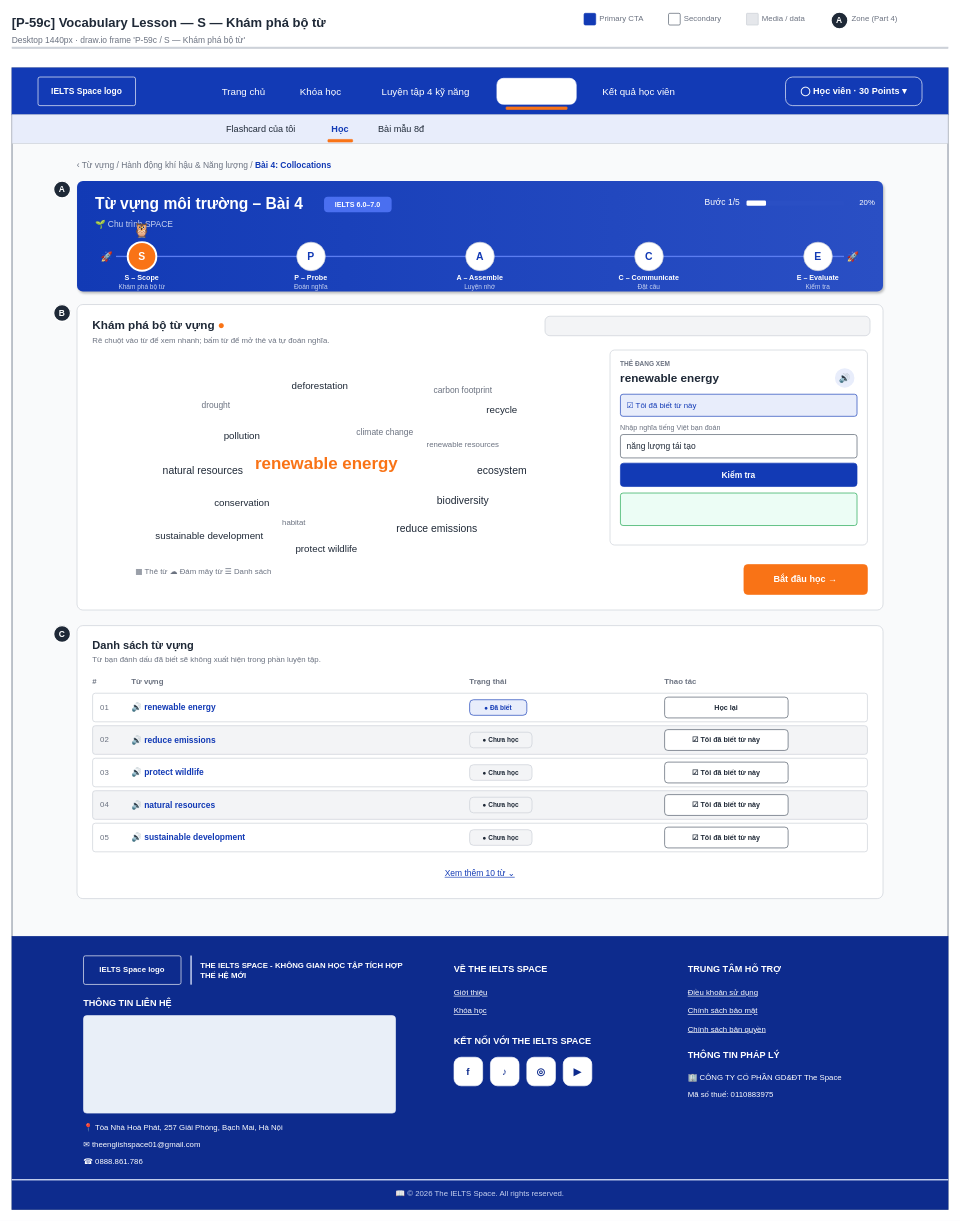
Image size: 960x1221. Some labels were removed from this diagram. Here are the shapes that lost their labels. From the top down, the centre of each, then its label:
At point 536,91: "Sổ ghi nhớ".
At point 707,326: "🟧 Mục tiêu: dùng từ để nói và viết về chủ đề môi trường · ⏱ 15 phút · 5 cụm từ".
At point 738,509: "✓ Chính xác! Năng lượng từ nguồn tự nhiên có thể tái tạo.".
At point 239,1064: "📍 The IELTS Space Mở trong Maps ↗".
